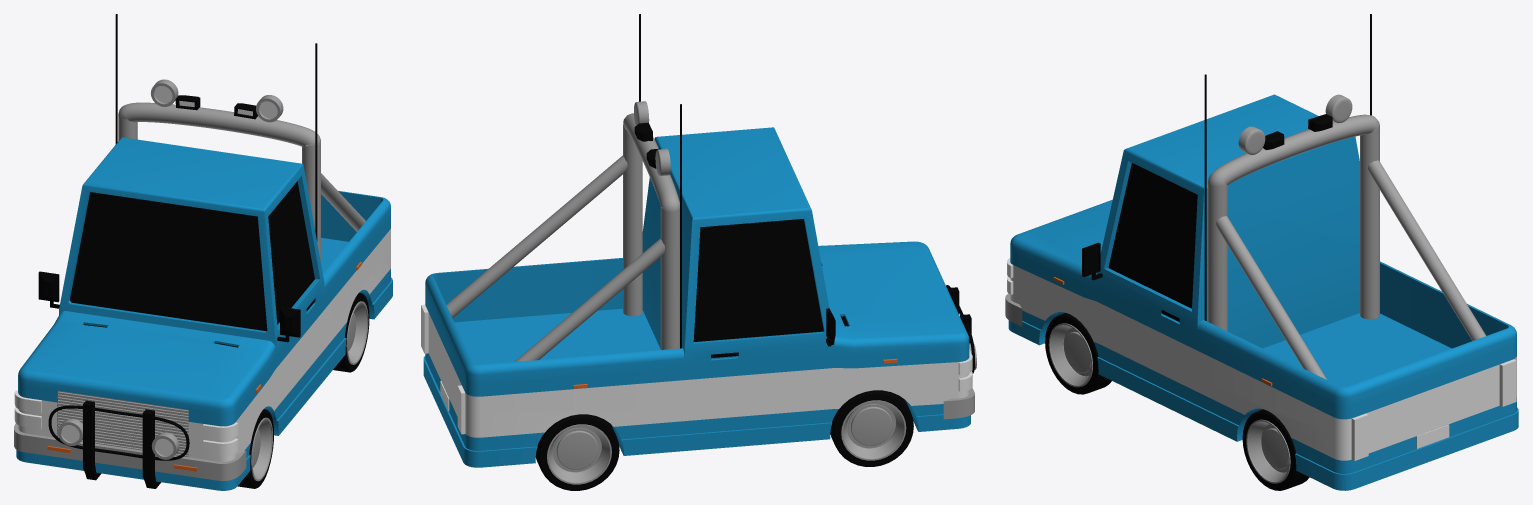
The model's file is Mini_truck.fbx.
3 views of the same model, side by side, from view 1: azimuth 30°, elevation 25°; view 2: azimuth 150°, elevation 25°; view 3: azimuth 270°, elevation 25° (orthographic). The views are drawn at different scales.
Parts seen in each view (by area): view 1: Cube, Cube.014, Cube.008, BézierCurve, Cube.001, Cube.004, Cylinder.006, Cube.006, Cube.005, Cube.017, Cylinder.002, BézierCircle (+9 smaller); view 2: Cube, Cube.008, Cube.014, BézierCurve, Cylinder.006, Cylinder.007, Cylinder.002, Cube.010, Cylinder.005, Cube.004, Cylinder; view 3: Cube, Cube.008, BézierCurve, Cube.014, Cylinder.007, Cylinder.006, Cylinder.002, Cube.010, Cylinder.005, Cylinder, Cube.012, Cube.002.
Boxes of the visible parts, left/top/right/bottom form: Cube: left=16, top=137, right=392, bottom=490; Cube.014: left=70, top=181, right=314, bottom=331; Cube.008: left=235, top=228, right=390, bottom=457; BézierCurve: left=118, top=102, right=320, bottom=261; Cube.001: left=57, top=390, right=188, bottom=457; Cube.004: left=14, top=423, right=246, bottom=480; Cylinder.006: left=251, top=301, right=368, bottom=481; Cube.006: left=83, top=400, right=160, bottom=488; Cube.005: left=14, top=390, right=238, bottom=455; Cube.017: left=18, top=400, right=235, bottom=461; Cylinder.002: left=237, top=292, right=369, bottom=488; BézierCircle: left=48, top=405, right=189, bottom=460; Cube: left=423, top=127, right=970, bottom=467; Cube.008: left=428, top=313, right=958, bottom=437; Cube.014: left=693, top=219, right=823, bottom=341; BézierCurve: left=623, top=113, right=679, bottom=349; Cylinder.006: left=547, top=400, right=906, bottom=484; Cylinder.007: left=446, top=155, right=664, bottom=361; Cylinder.002: left=535, top=390, right=913, bottom=490; Cube.010: left=421, top=304, right=465, bottom=434; Cylinder.005: left=634, top=101, right=670, bottom=175; Cube.004: left=943, top=387, right=974, bottom=419; Cylinder: left=639, top=14, right=681, bottom=348; Cube: left=1008, top=94, right=1518, bottom=490; Cube.008: left=1013, top=265, right=1516, bottom=460; BézierCurve: left=1208, top=114, right=1379, bottom=331; Cube.014: left=1108, top=163, right=1197, bottom=308; Cylinder.007: left=1216, top=160, right=1486, bottom=379; Cylinder.006: left=1048, top=323, right=1290, bottom=483; Cylinder.002: left=1045, top=313, right=1309, bottom=490; Cube.010: left=1351, top=359, right=1516, bottom=460; Cylinder.005: left=1238, top=94, right=1352, bottom=154; Cylinder: left=1204, top=14, right=1371, bottom=320; Cube.012: left=1263, top=114, right=1332, bottom=149; Cube.002: left=1082, top=242, right=1102, bottom=280.
Size of the model in its own units: 181 by 139 by 172.
